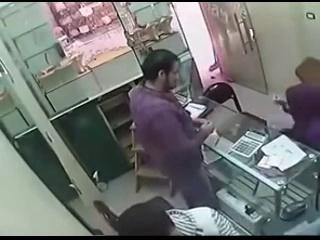Normal: (128, 49, 218, 211), (93, 196, 177, 236), (203, 82, 243, 113), (280, 200, 306, 221)
